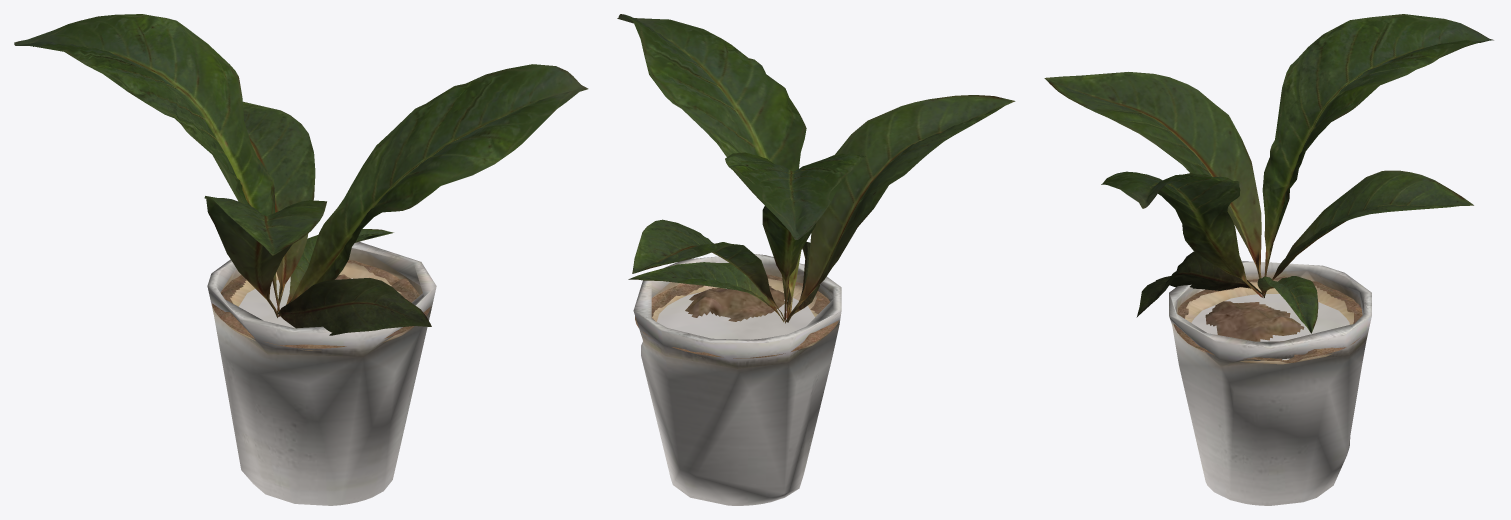
Rendered from doniczka_anturium_3.glb.
3 views of the same model, side by side, from view 1: azimuth 30°, elevation 25°; view 2: azimuth 150°, elevation 25°; view 3: azimuth 270°, elevation 25° (orthographic). The views are drawn at different scales.
Parts seen in each view (by area): view 1: roslina, doniczka, ziemia; view 2: roslina, doniczka, ziemia; view 3: roslina, doniczka, ziemia.
Part boxes in pixels (left/top/right/bottom): roslina: left=14, top=14, right=588, bottom=335; doniczka: left=207, top=241, right=436, bottom=505; ziemia: left=211, top=260, right=430, bottom=348; roslina: left=617, top=14, right=1015, bottom=323; doniczka: left=633, top=254, right=841, bottom=505; ziemia: left=635, top=274, right=838, bottom=358; roslina: left=1044, top=14, right=1493, bottom=333; doniczka: left=1169, top=261, right=1371, bottom=505; ziemia: left=1173, top=276, right=1362, bottom=362.
Size of the model in its own units: 0.6007 by 0.6132 by 0.657.
2 materials, 2 textured.
